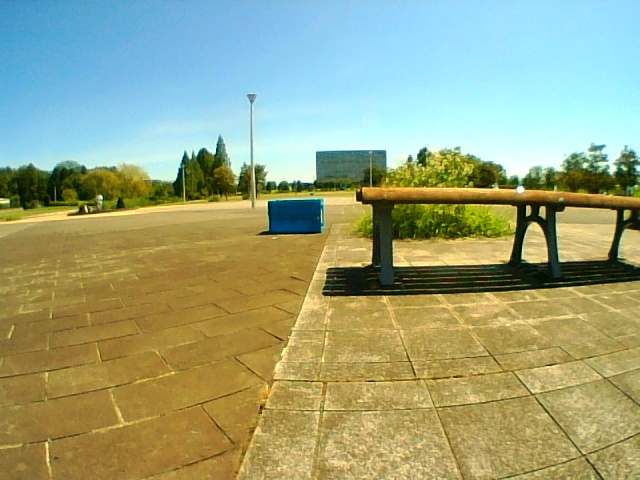blue_box: (269, 199, 324, 234)
tag: (320, 208, 322, 223)
